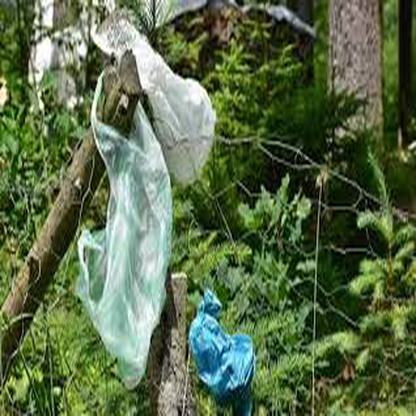plastic bag: (67, 75, 168, 389), (131, 38, 216, 182), (185, 295, 256, 401)
